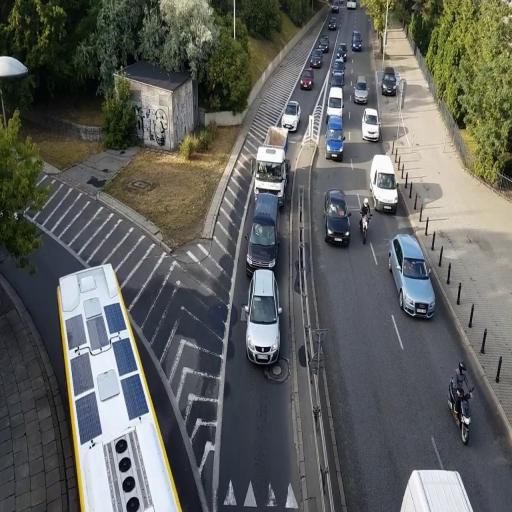vehicle: (56, 262, 182, 507), (388, 232, 436, 320), (246, 150, 280, 274), (244, 269, 281, 367), (399, 468, 474, 511), (246, 190, 280, 274), (254, 125, 288, 203), (370, 154, 398, 215), (324, 188, 350, 246), (450, 384, 472, 445), (325, 208, 351, 246), (456, 390, 472, 446), (325, 114, 345, 158), (278, 101, 300, 132), (362, 106, 380, 142), (381, 67, 398, 95), (331, 56, 345, 87), (354, 77, 368, 104), (299, 70, 313, 90), (352, 30, 362, 51)
